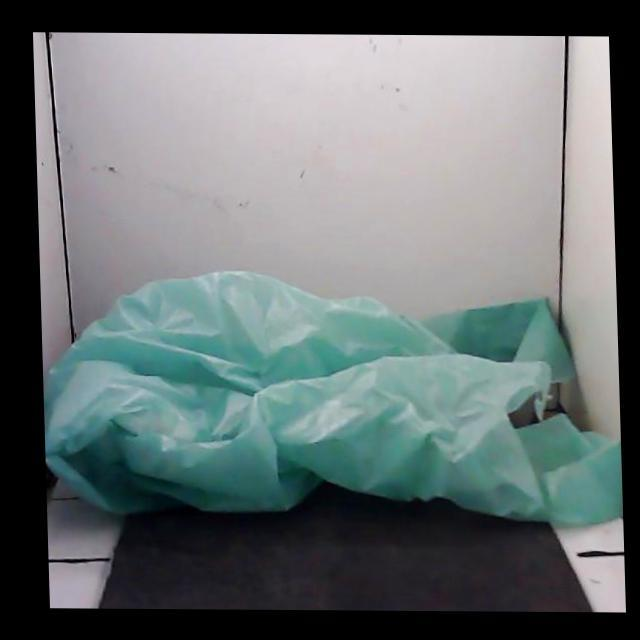plastico: (45, 271, 621, 524)
